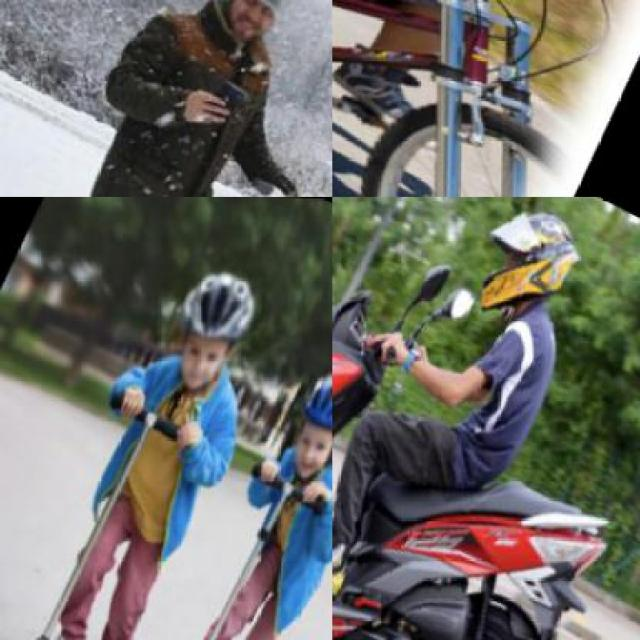With Helmet: (455, 197, 597, 343), (148, 250, 274, 408), (264, 348, 330, 494)
Without Helmet: (203, 0, 309, 57)
